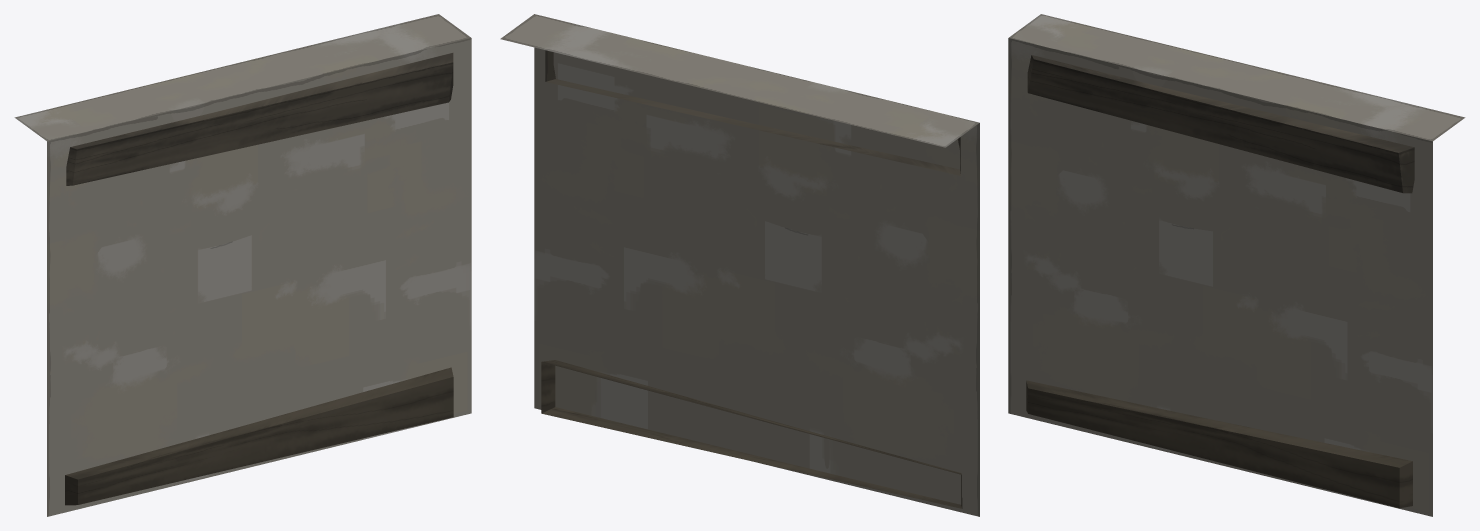
File: childRoom_wall_outer01.fbx
The picture shows the model from 3 angles, left to right: view 1: azimuth 30°, elevation 25°; view 2: azimuth 150°, elevation 25°; view 3: azimuth 330°, elevation 25°; orthographic projection. The views are drawn at different scales.
Parts seen in each view (by area): view 1: cons_wall_outer01; view 2: cons_wall_outer01; view 3: cons_wall_outer01.
Boxes of the visible parts, left/top/right/bottom form: cons_wall_outer01: left=14, top=14, right=471, bottom=516; cons_wall_outer01: left=500, top=14, right=979, bottom=516; cons_wall_outer01: left=1008, top=14, right=1465, bottom=516.
Size of the model in its own units: 300 by 254 by 49.76.
